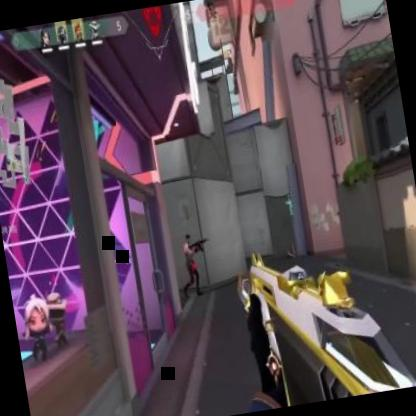enemy: (172, 228, 216, 300)
enemy_head: (185, 233, 191, 246)
